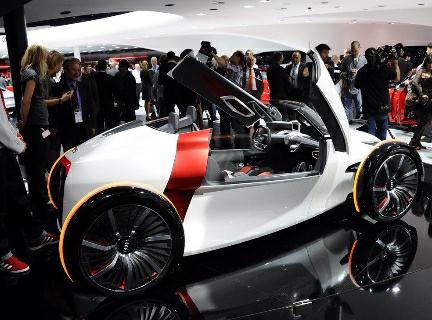奥迪-Urban: (45, 110, 428, 300)
